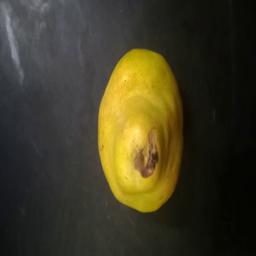Pear Semifresh: (97, 46, 187, 221)
